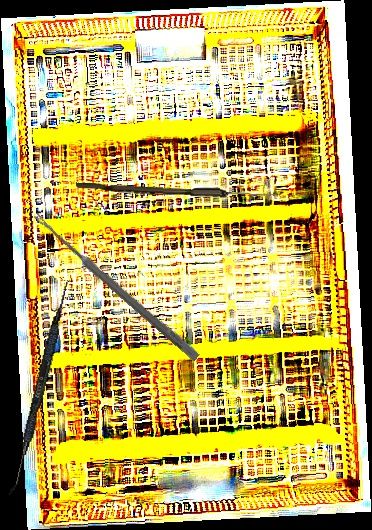Spatula Surgical: (9, 278, 71, 498)
Surgical Spoon: (30, 211, 202, 362), (75, 182, 279, 200)
